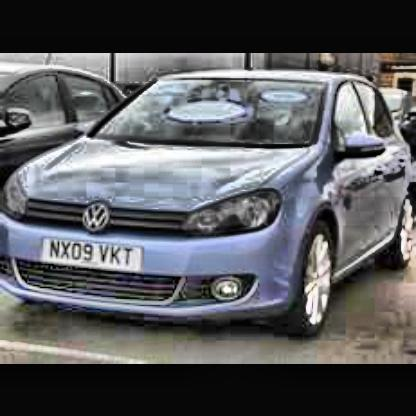Volkswagen Golf Hatchback 2012: (4, 69, 416, 346)
